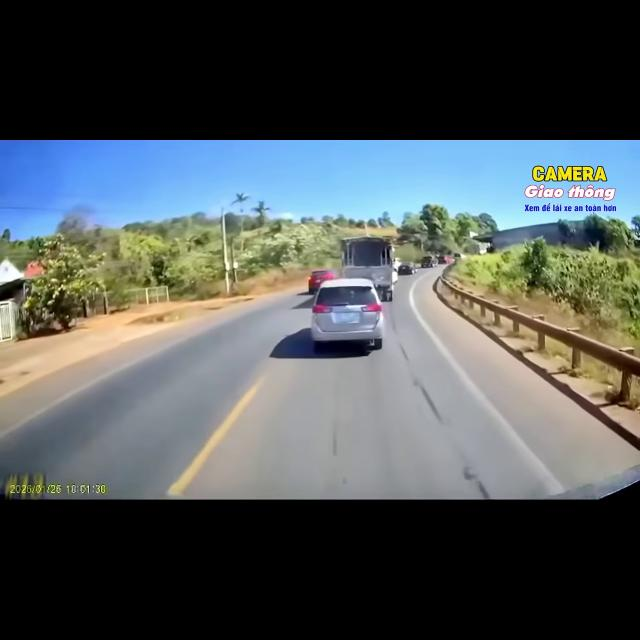car: (311, 279, 384, 352), (308, 269, 337, 293), (398, 263, 416, 274), (421, 256, 437, 267), (438, 255, 452, 264), (453, 253, 465, 260)
truck: (341, 236, 397, 301)
